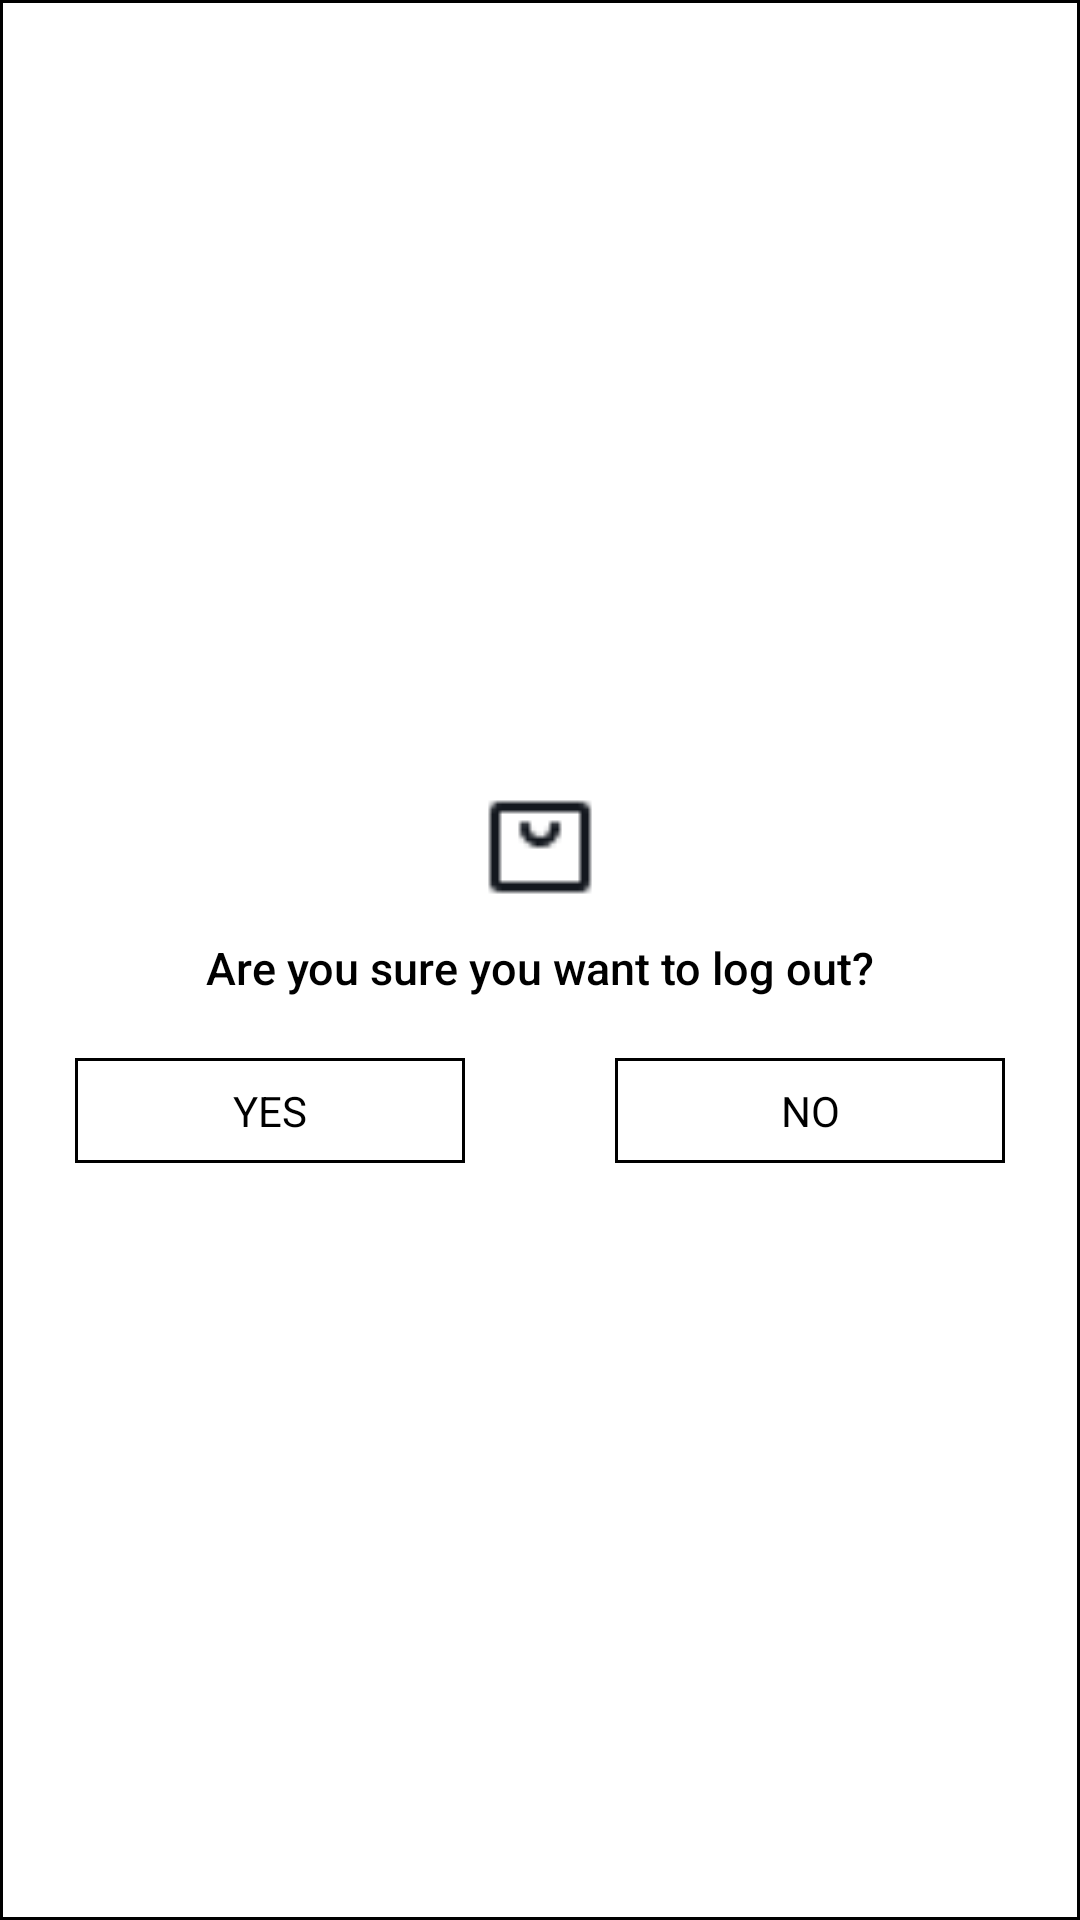

Point at icon controls on the screen. Image size 1080w x 1920h, points as (x=x, y=y).
shopping bag: (x=540, y=847)
